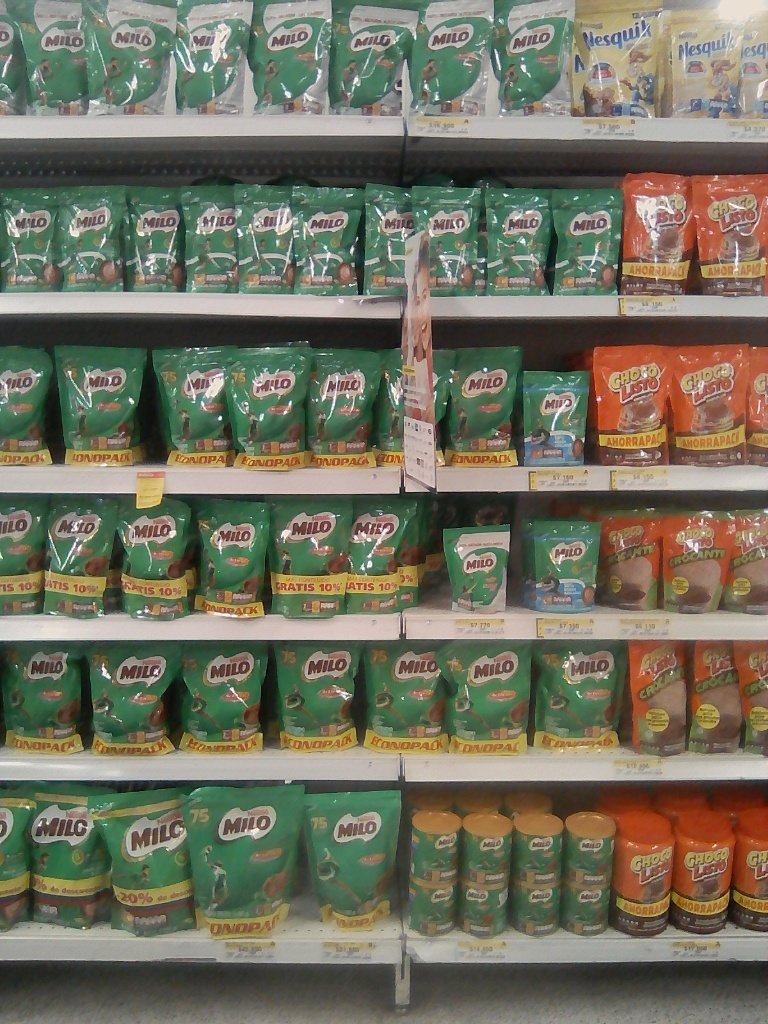COL0170102DYP25000: (589, 507, 662, 614)
COL0170102DYP50000: (621, 638, 687, 759)
COL0170103DYP36000: (620, 167, 701, 297)
COL0170103DYP44000: (587, 340, 672, 462)
COL0170103TRR00100: (615, 807, 673, 935)
COL0170203DYP25000: (3, 188, 60, 288)
COL0170203DYP50000: (535, 639, 624, 753)
COL0170203LAT40000: (409, 810, 461, 881)
COL0170205DYP20000: (440, 525, 511, 616)
COL0170205DYP50000: (3, 6, 24, 106)
COL0170303DYP20000: (570, 1, 663, 120)
COL0170306DYP20000: (666, 9, 750, 122)
